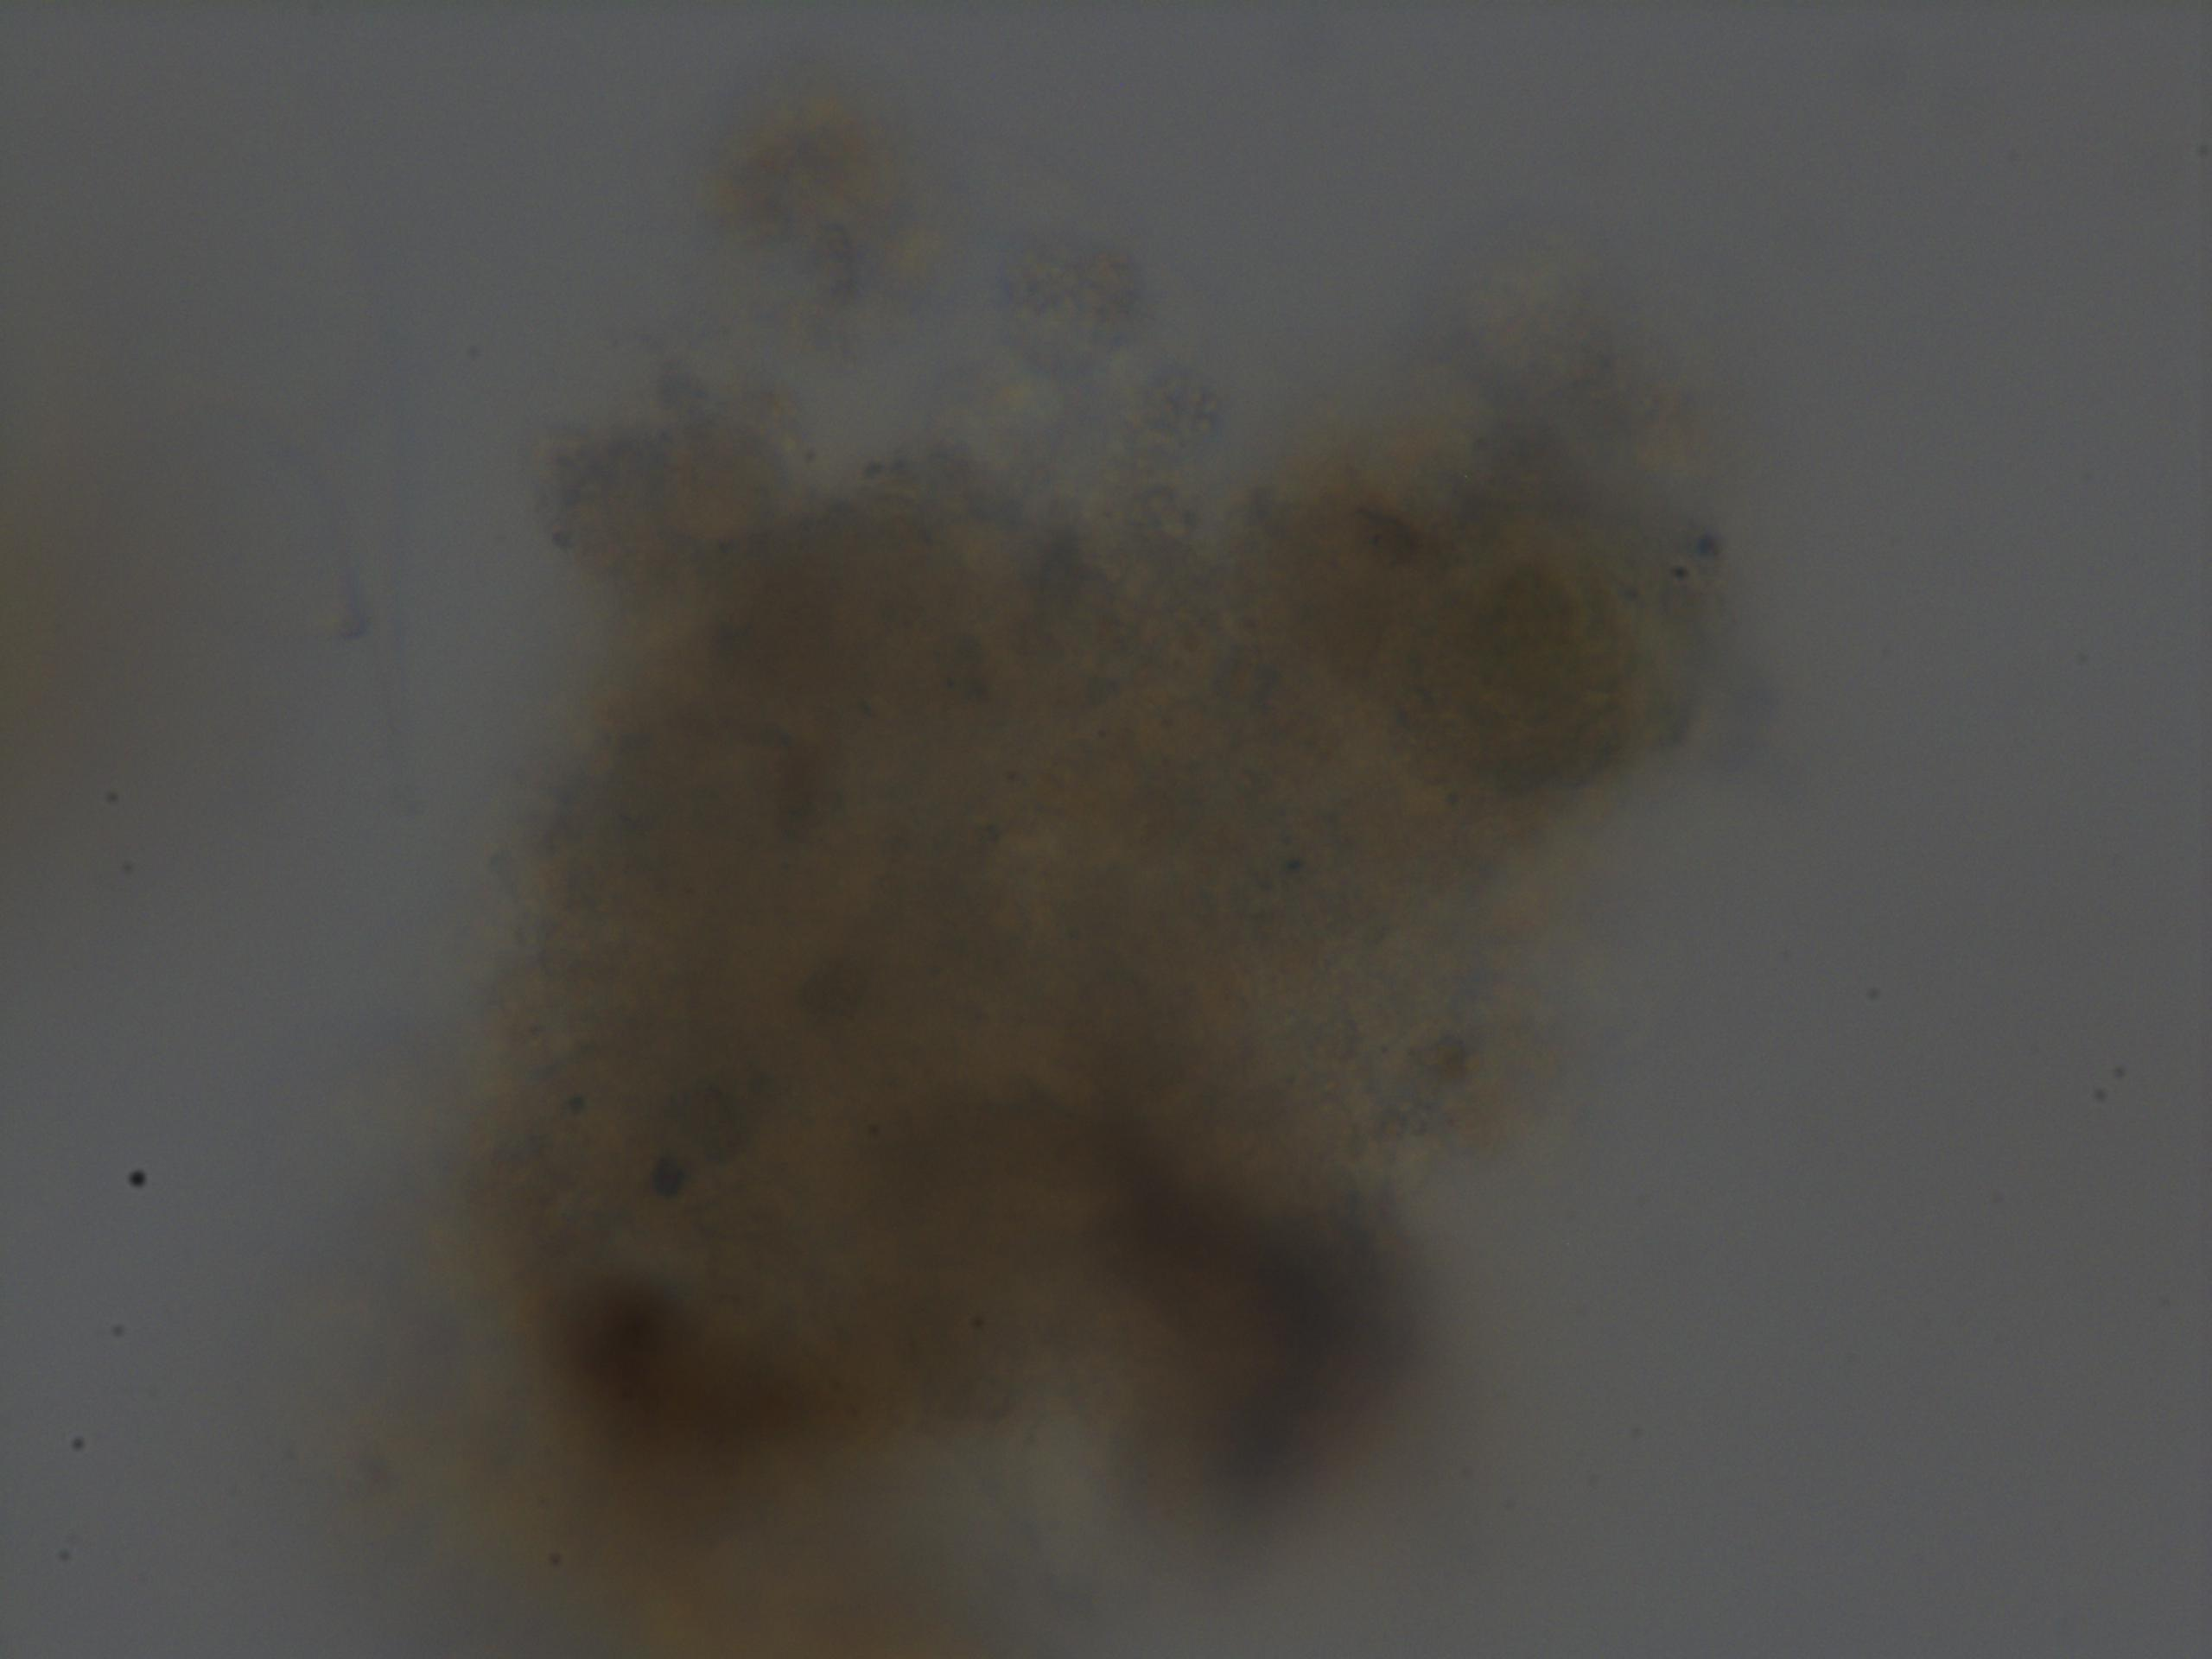spherical_floc: (442, 340, 1721, 1659)
